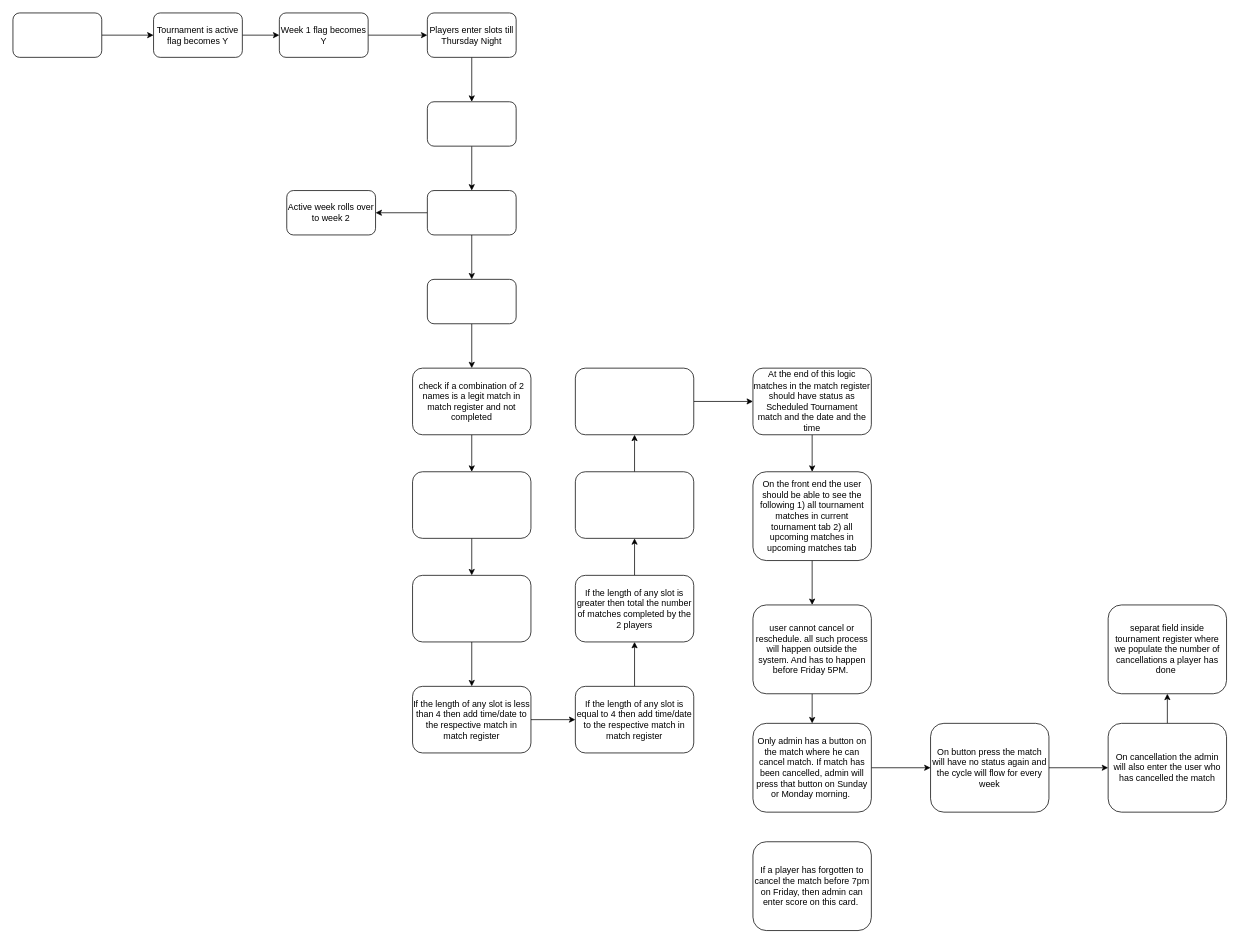
Some shapes in this 1240 by 944 pixel diagram are drawn without their labels. Here are the shapes that lost their labels. From the top down, the centre of each, then its label:
the point at 57,34: Admin activates Tournament
the point at 471,123: slots are saved under player name in tournament register, under the active week
the point at 471,212: On Friday admin hits create weekend schedule button
the point at 471,301: create 12 temp arrays with names of folks who have given that slot
the point at 634,401: Then add time/date to the respective match in match register
the point at 471,504: If yes move the combo to a temp array called upcoming match with the slot
the point at 634,504: Keep the 4 matches that have the lowest total
the point at 471,608: Count the number of entries for each slot
